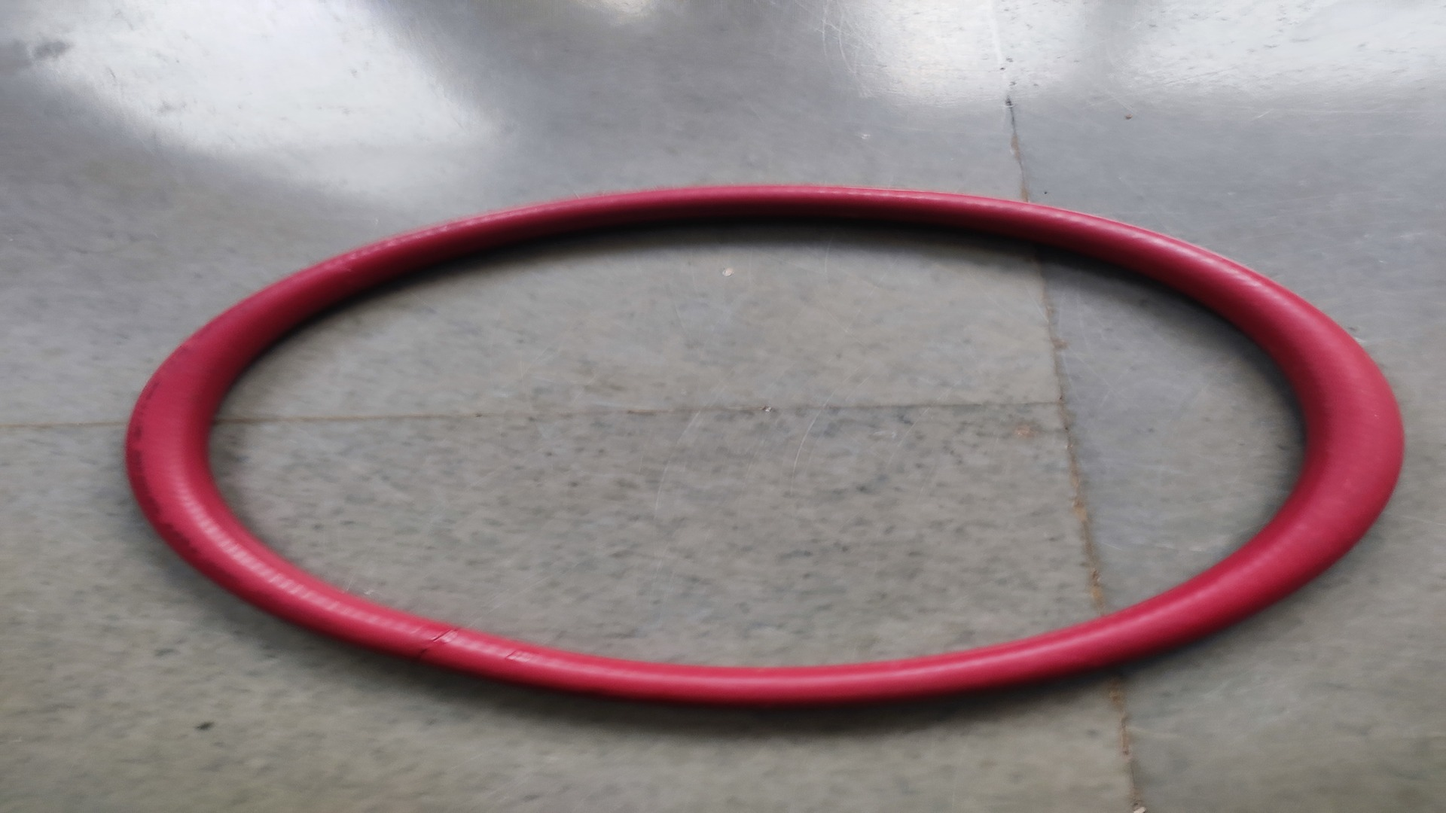Red ring: (124, 186, 1404, 712)
